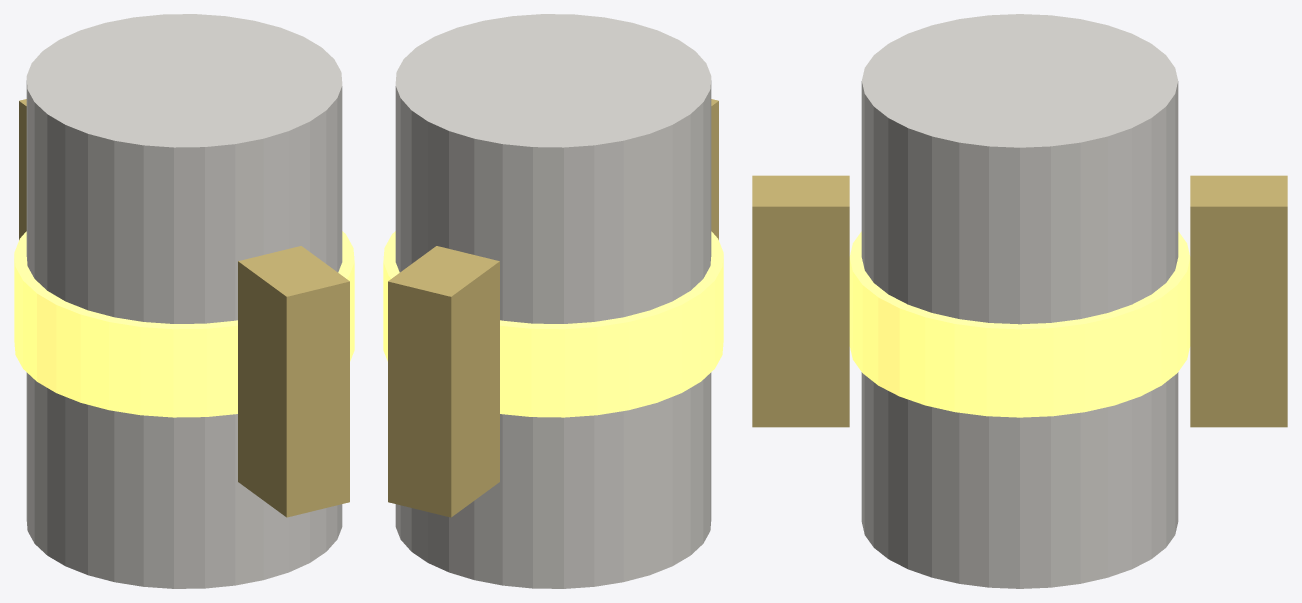
Rendered from generator_part_fuse.glb.
3 renders of one model, left to right at view 1: azimuth 30°, elevation 25°; view 2: azimuth 150°, elevation 25°; view 3: azimuth 270°, elevation 25°, orthographic.
Visible parts, largest first — view 1: Cylinder, Cube, Cylinder.001, Cube.001; view 2: Cylinder, Cube.001, Cylinder.001, Cube; view 3: Cylinder, Cylinder.001, Cube, Cube.001.
Part boxes in pixels (<box>): Cylinder: <box>26,14,342,588</box>; Cube: <box>238,246,349,517</box>; Cylinder.001: <box>14,231,354,417</box>; Cube.001: <box>19,99,26,239</box>; Cylinder: <box>395,14,711,588</box>; Cube.001: <box>388,246,499,517</box>; Cylinder.001: <box>383,231,723,417</box>; Cube: <box>711,99,718,239</box>; Cylinder: <box>861,14,1178,588</box>; Cylinder.001: <box>849,231,1190,417</box>; Cube: <box>752,175,849,427</box>; Cube.001: <box>1190,175,1287,427</box>.
Bounding box in the file's own units: 0.14 × 0.2 × 0.22.
